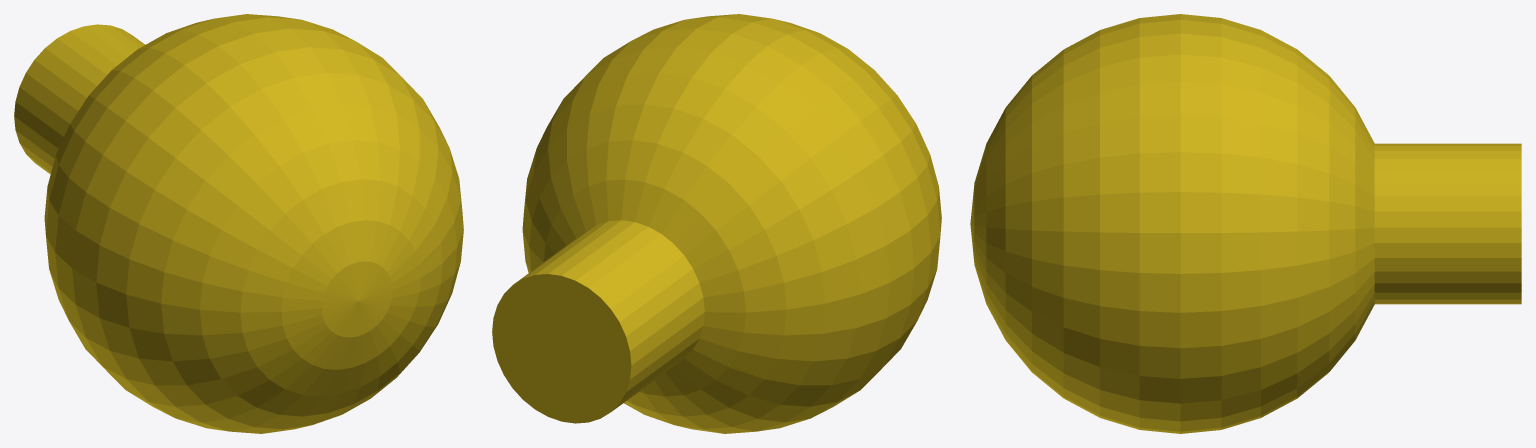
The model's file is door knob.fbx.
3 renders of one model, left to right at view 1: azimuth 30°, elevation 25°; view 2: azimuth 150°, elevation 25°; view 3: azimuth 270°, elevation 25°, orthographic.
Parts seen in each view (by area): view 1: Sphere; view 2: Sphere; view 3: Sphere.
Part boxes in pixels (<box>): Sphere: <box>14,14,463,433</box>; Sphere: <box>492,14,941,433</box>; Sphere: <box>970,14,1521,433</box>.
Bounding box in the file's own units: 91.18 × 91.18 × 120.
Materials: 1 (1 with a texture image).
